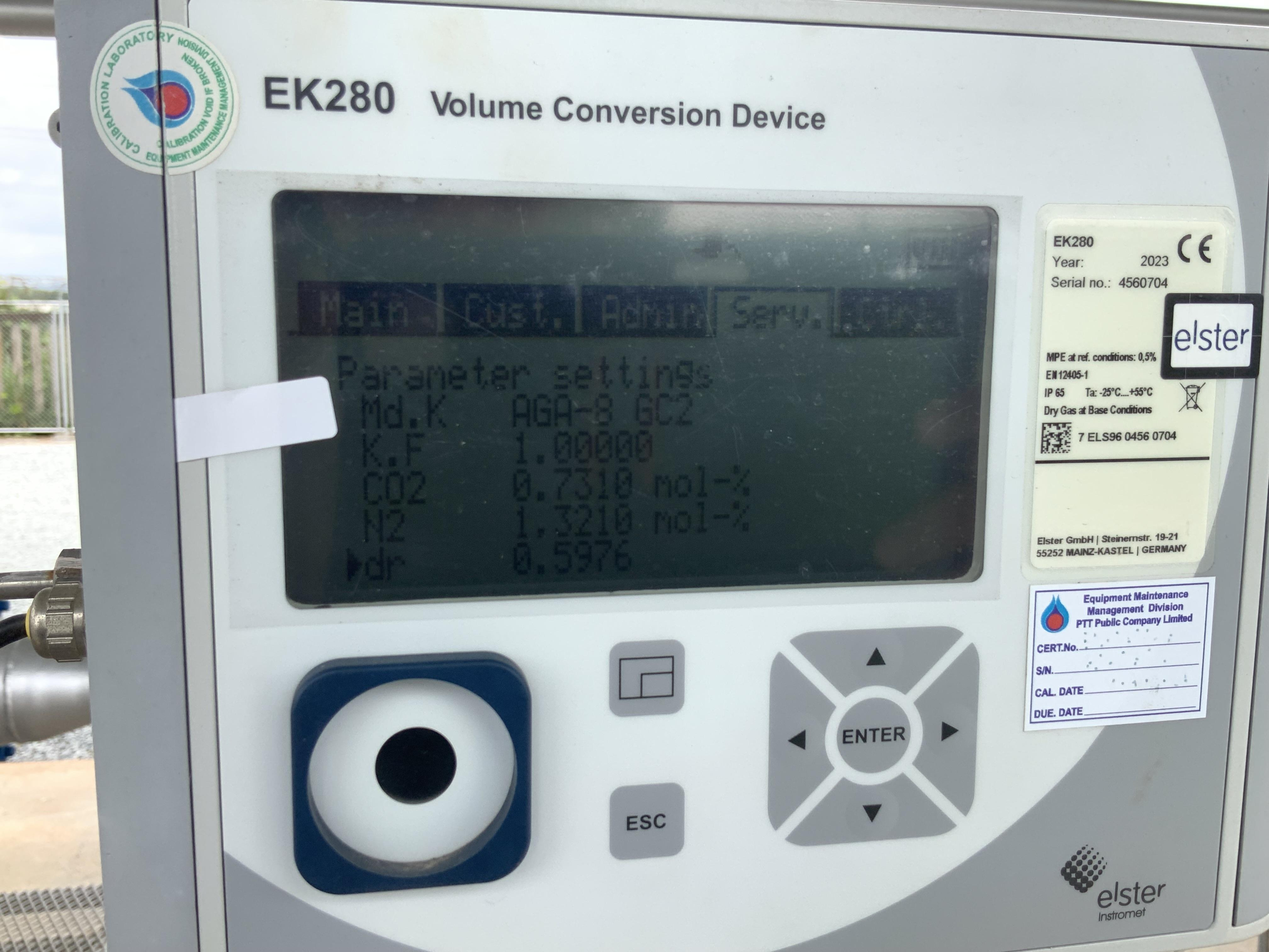digital_screen: (273, 164, 1012, 607)
